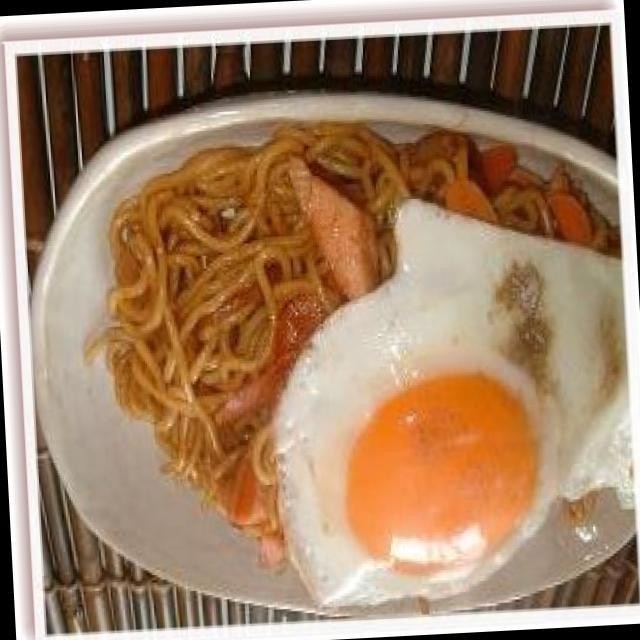Egg: (277, 249, 638, 609)
